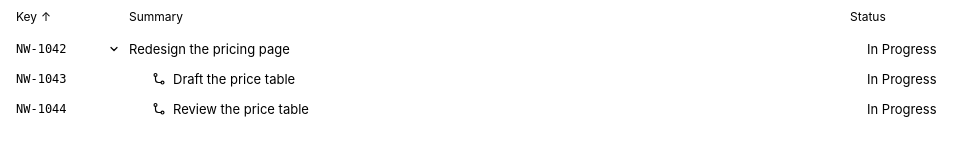
Scenario: TableView › subtasks › collapses and expands the subtasks with the caret, keeping the collapse in the view's place
Click the button named "Collapse subtasks". click: point(114, 49)
box: [106,41,122,57]
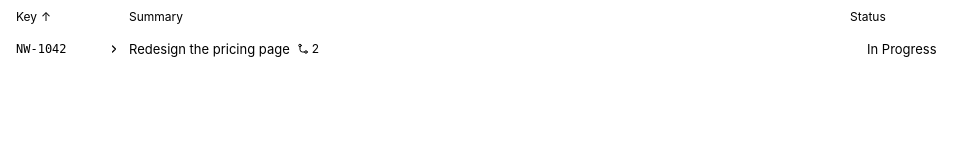
Check: the text "Draft the price table" is gone
Check: the element named "2 child issues" is shown, box [297,41,319,57]
Click the button named "Expand subtasks". click: point(114, 49)
box: [106,41,122,57]
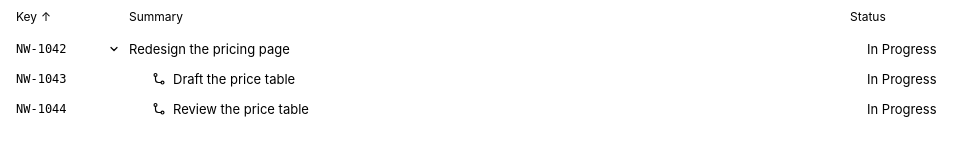
Check: the text "Draft the price table" is shown, box [173,70,295,88]
